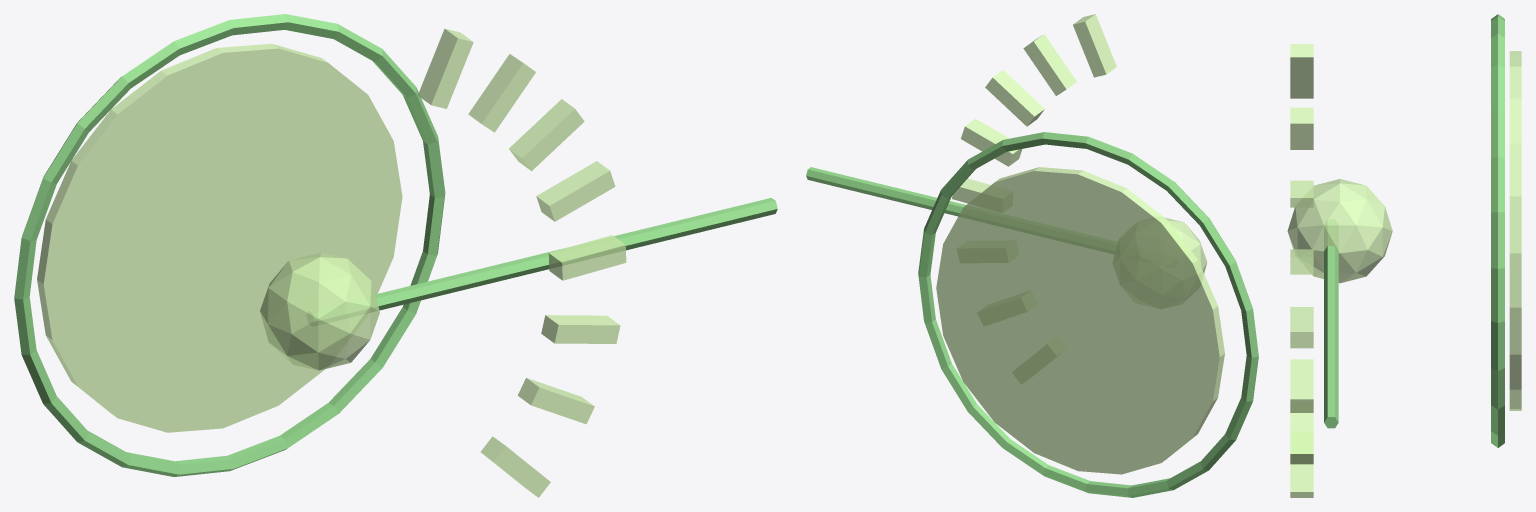
Rendered from 01_class_special_attack_vfx.glb.
3 views of the same model, side by side, from view 1: azimuth 30°, elevation 25°; view 2: azimuth 150°, elevation 25°; view 3: azimuth 270°, elevation 25° (orthographic). The views are drawn at different scales.
Visible parts, largest first — view 1: ability_cast_disc, ability_outer_ring, class_energy_core, tether_line, attack_flow_arc_seg_7, attack_flow_arc_seg_5, attack_flow_arc_seg_6, attack_flow_arc_seg_4, attack_flow_arc_seg_3, attack_flow_arc_seg_2, attack_flow_arc_seg_1, attack_flow_arc_seg_0; view 2: ability_cast_disc, ability_outer_ring, tether_line, attack_flow_arc_seg_7, attack_flow_arc_seg_5, attack_flow_arc_seg_6, attack_flow_arc_seg_4, class_energy_core, attack_flow_arc_seg_3; view 3: class_energy_core, ability_outer_ring, ability_cast_disc, tether_line, attack_flow_arc_seg_7, attack_flow_arc_seg_2, attack_flow_arc_seg_1, attack_flow_arc_seg_6, attack_flow_arc_seg_3, attack_flow_arc_seg_0, attack_flow_arc_seg_5, attack_flow_arc_seg_4.
Boxes of the visible parts, left/top/right/bottom form: ability_cast_disc: left=37, top=43, right=402, bottom=432; ability_outer_ring: left=14, top=14, right=445, bottom=476; class_energy_core: left=260, top=252, right=379, bottom=370; tether_line: left=307, top=198, right=777, bottom=325; attack_flow_arc_seg_7: left=418, top=28, right=473, bottom=108; attack_flow_arc_seg_5: left=509, top=99, right=584, bottom=171; attack_flow_arc_seg_6: left=468, top=54, right=535, bottom=132; attack_flow_arc_seg_4: left=536, top=161, right=615, bottom=221; attack_flow_arc_seg_3: left=548, top=235, right=626, bottom=280; attack_flow_arc_seg_2: left=541, top=315, right=620, bottom=343; attack_flow_arc_seg_1: left=518, top=378, right=594, bottom=424; attack_flow_arc_seg_0: left=480, top=436, right=550, bottom=497; ability_cast_disc: left=936, top=167, right=1224, bottom=474; ability_outer_ring: left=918, top=132, right=1258, bottom=497; tether_line: left=806, top=167, right=1117, bottom=253; attack_flow_arc_seg_7: left=1073, top=14, right=1116, bottom=77; attack_flow_arc_seg_5: left=985, top=70, right=1044, bottom=126; attack_flow_arc_seg_6: left=1023, top=34, right=1076, bottom=95; attack_flow_arc_seg_4: left=961, top=118, right=1022, bottom=166; class_energy_core: left=1164, top=217, right=1207, bottom=273; attack_flow_arc_seg_3: left=952, top=178, right=991, bottom=203; class_energy_core: left=1287, top=179, right=1392, bottom=283; ability_outer_ring: left=1491, top=14, right=1504, bottom=447; ability_cast_disc: left=1509, top=51, right=1521, bottom=410; tether_line: left=1324, top=220, right=1338, bottom=428; attack_flow_arc_seg_7: left=1290, top=44, right=1313, bottom=98; attack_flow_arc_seg_2: left=1290, top=359, right=1313, bottom=412; attack_flow_arc_seg_1: left=1290, top=413, right=1313, bottom=464; attack_flow_arc_seg_6: left=1290, top=107, right=1313, bottom=149; attack_flow_arc_seg_3: left=1290, top=307, right=1313, bottom=348; attack_flow_arc_seg_0: left=1290, top=464, right=1313, bottom=497; attack_flow_arc_seg_5: left=1290, top=180, right=1313, bottom=207; attack_flow_arc_seg_4: left=1290, top=249, right=1313, bottom=274.
Bounding box in the file's own units: 2.29 × 1.63 × 0.8.
